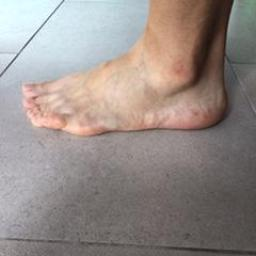Lateral View -Left Foot-: (13, 24, 243, 147)
